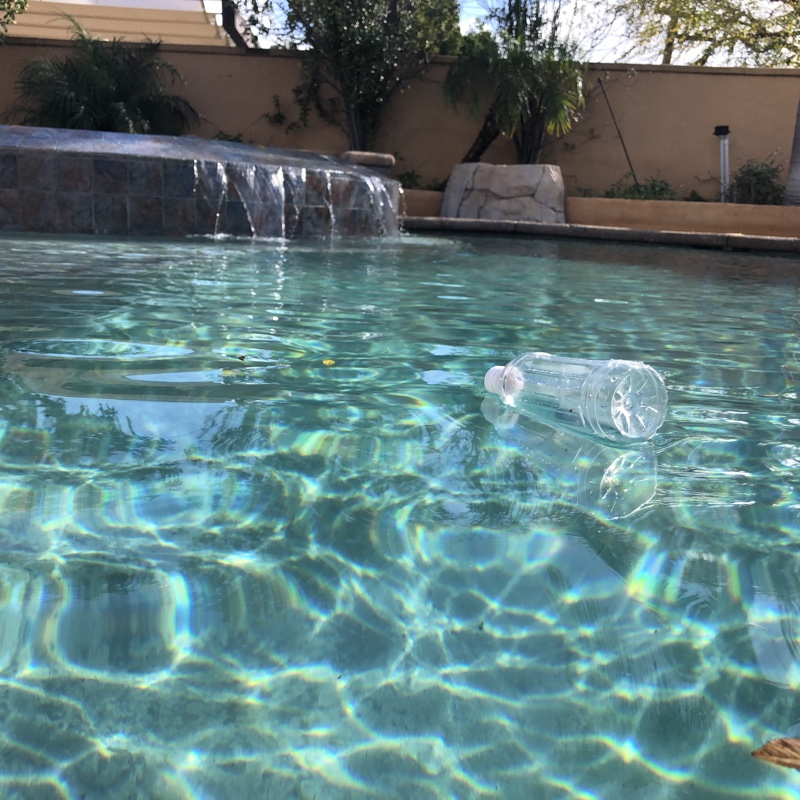Plastic Bottle: (480, 345, 671, 448)
